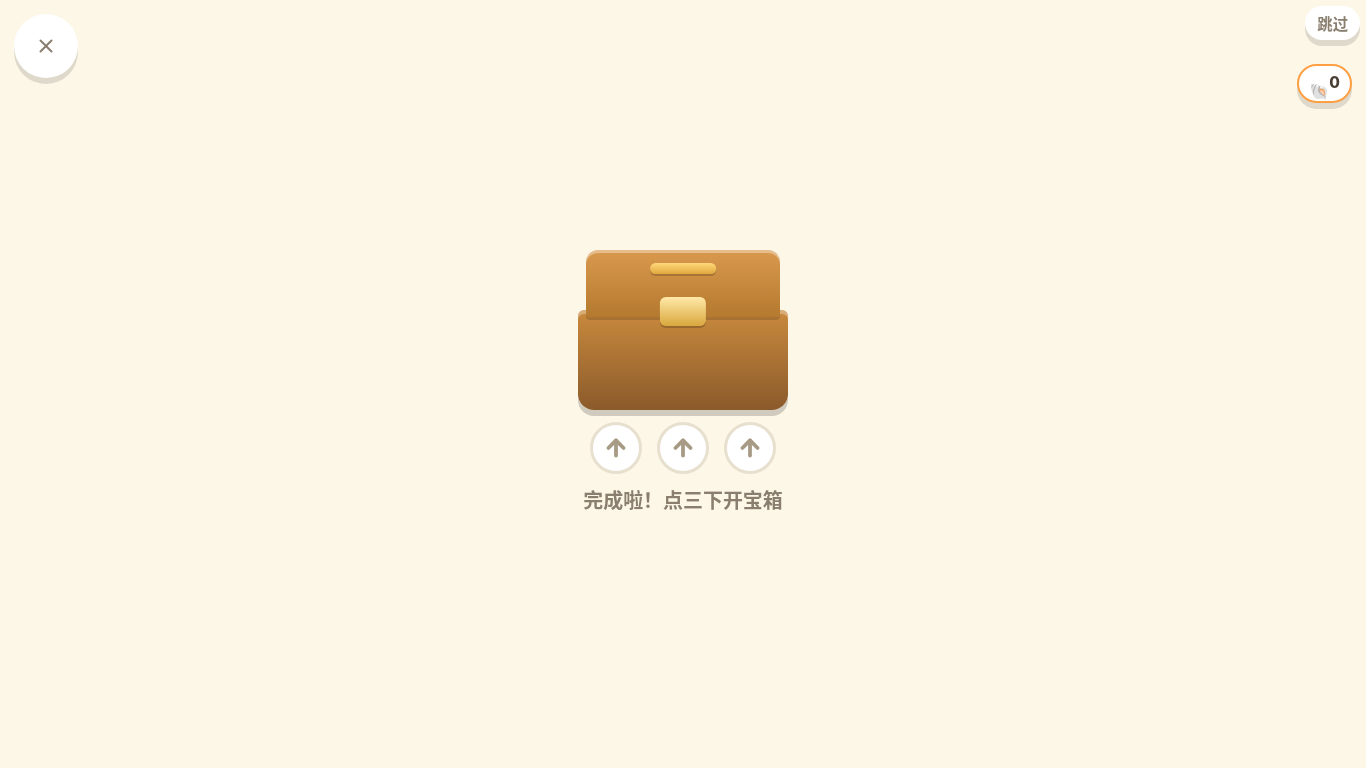
Test case: ChestReward 收取动画：固定渲染、剩余原位 › 开箱后固定渲染全部掉落贝壳（山形），不随已收取数量重排
Click the element with class "chest": (683, 330) [578,250,788,410]
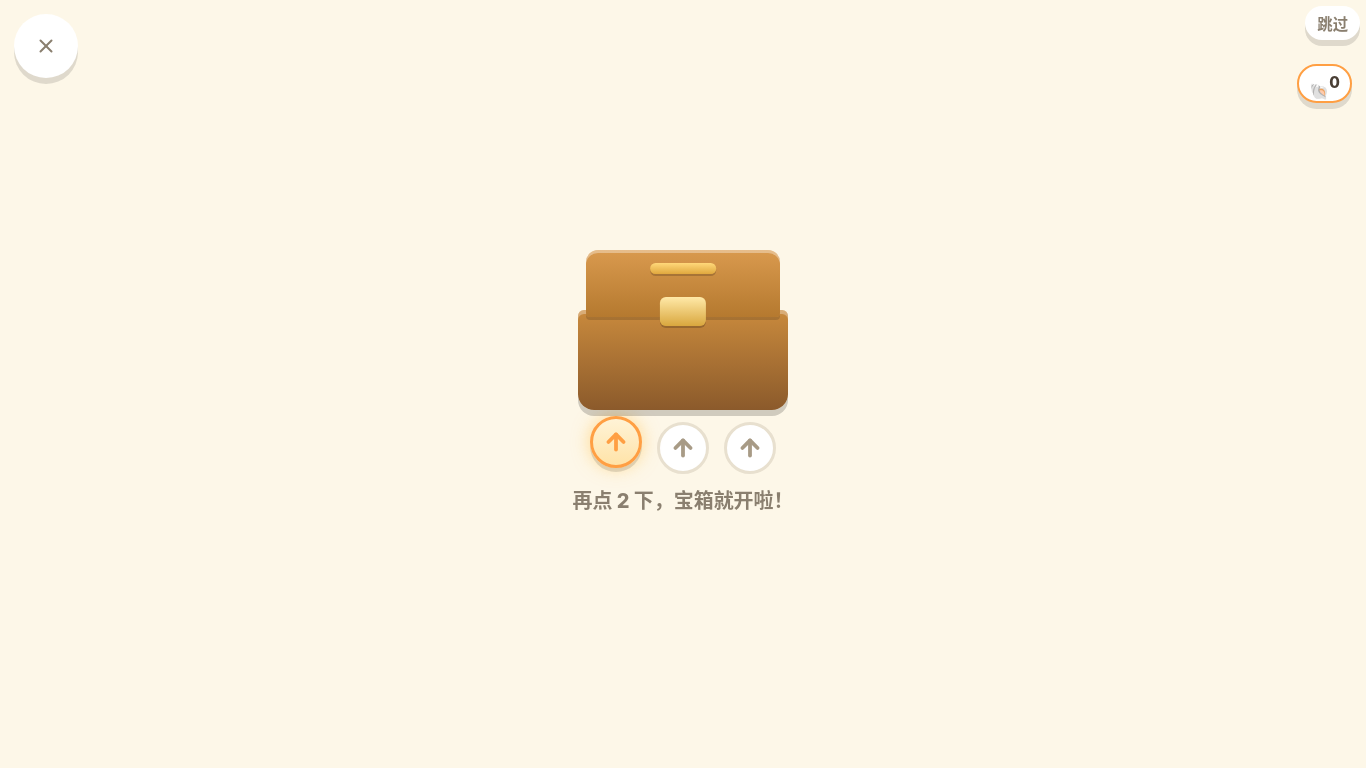
Click the element with class "chest": (683, 330) [578,250,788,410]
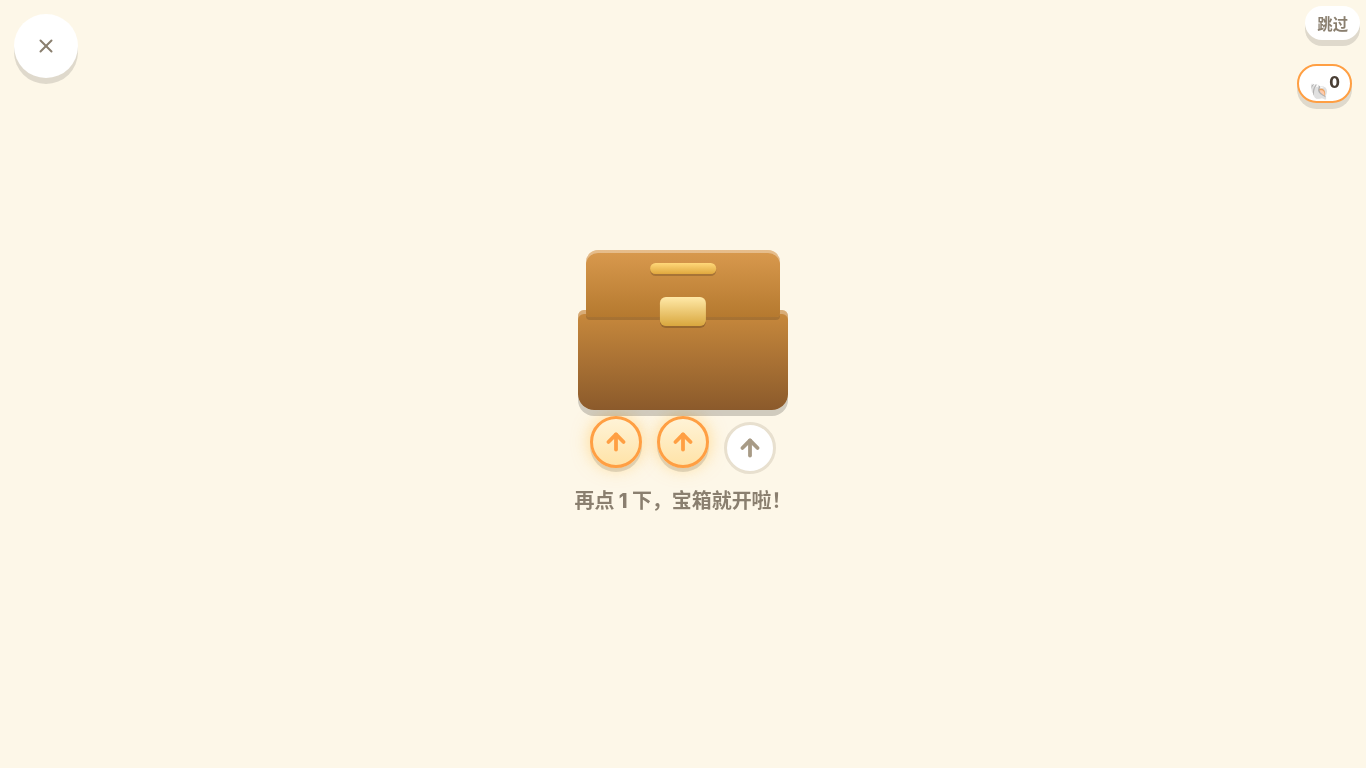
Click the element with class "chest": (683, 330) [578,250,788,410]
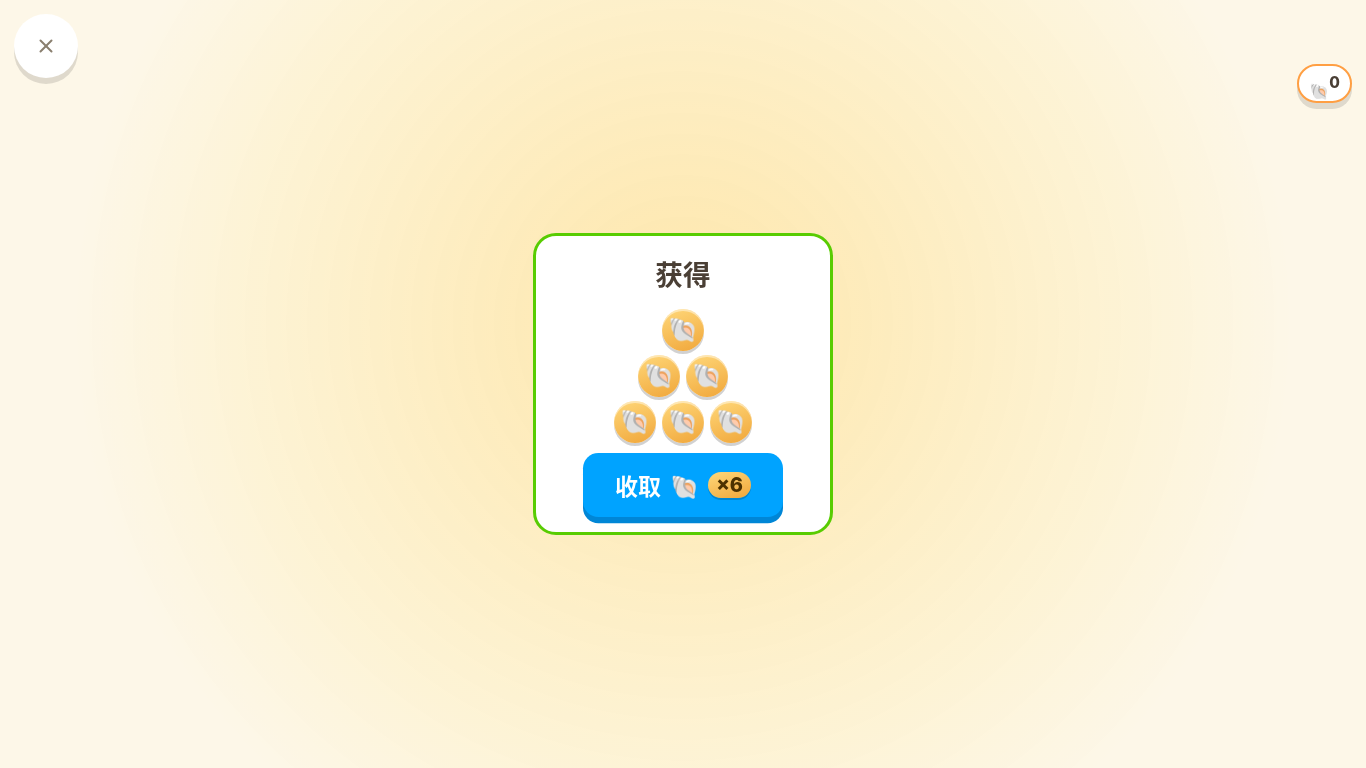
Now the number of elements with class "shell-item" is 6, box [662,309,704,351]; [638,355,680,397]; [686,355,728,397]; [614,401,656,443]; [662,401,704,443]; [710,401,752,443]
